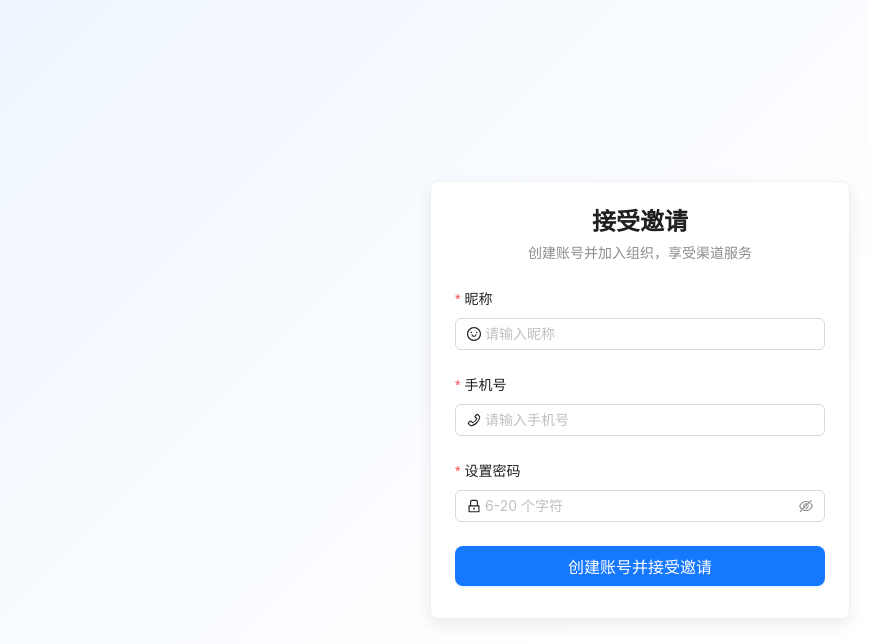
Scenario: InviteAcceptPage › shows toast error for non-401 business failures
In the field with placeholder "请输入昵称": (649, 334) [485, 323, 813, 345], type "受邀用户"
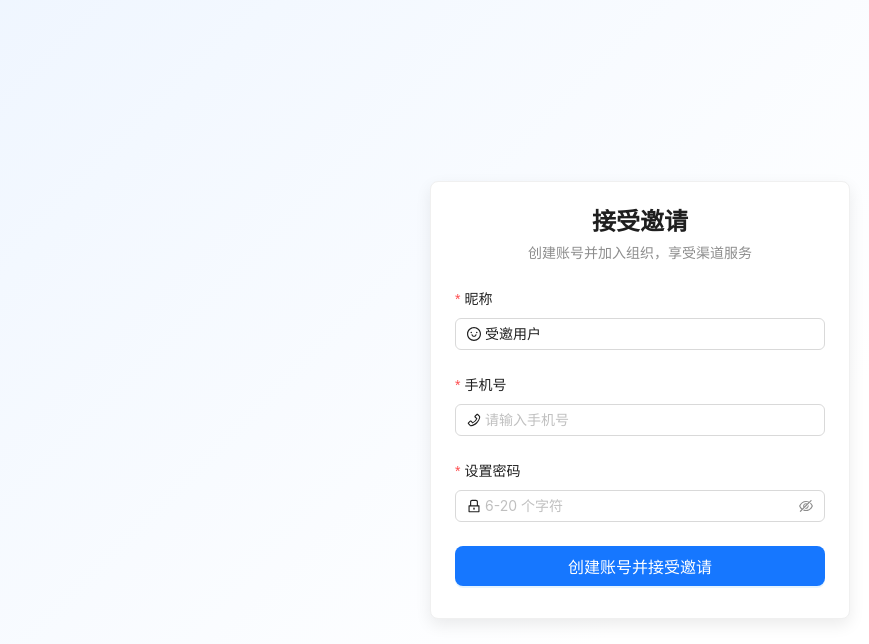
In the field with placeholder "请输入手机号": (649, 420) [485, 409, 813, 431], type "13800000005"
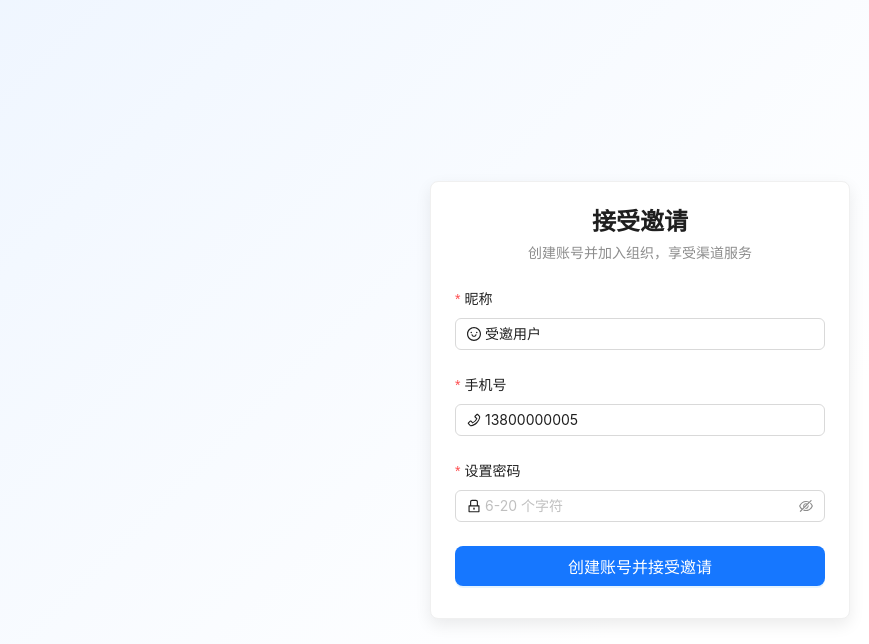
In the password field with placeholder "6-20 个字符": (640, 506) [485, 495, 795, 517], type "Test1234"
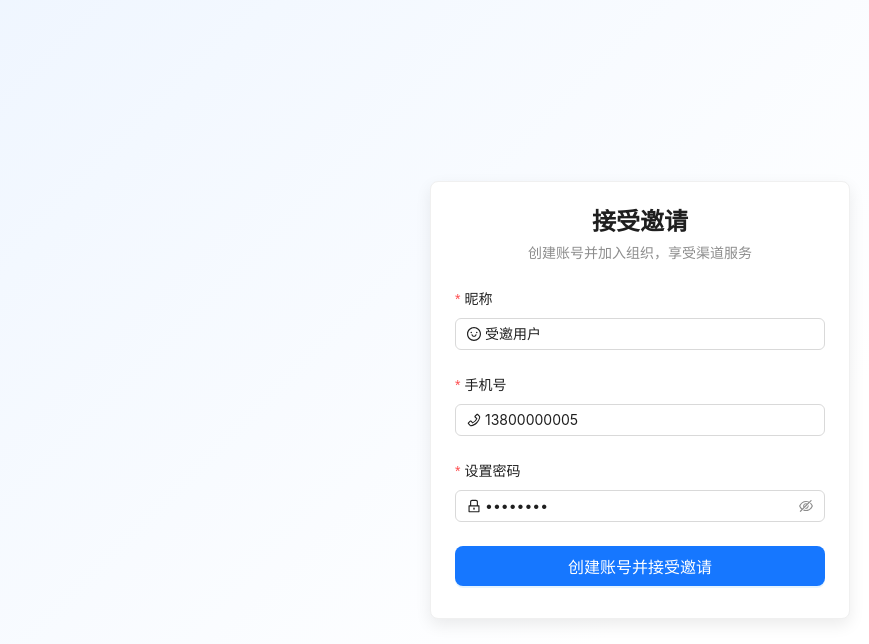
Click the button "创建账号并接受邀请": (640, 566) [455, 546, 825, 586]
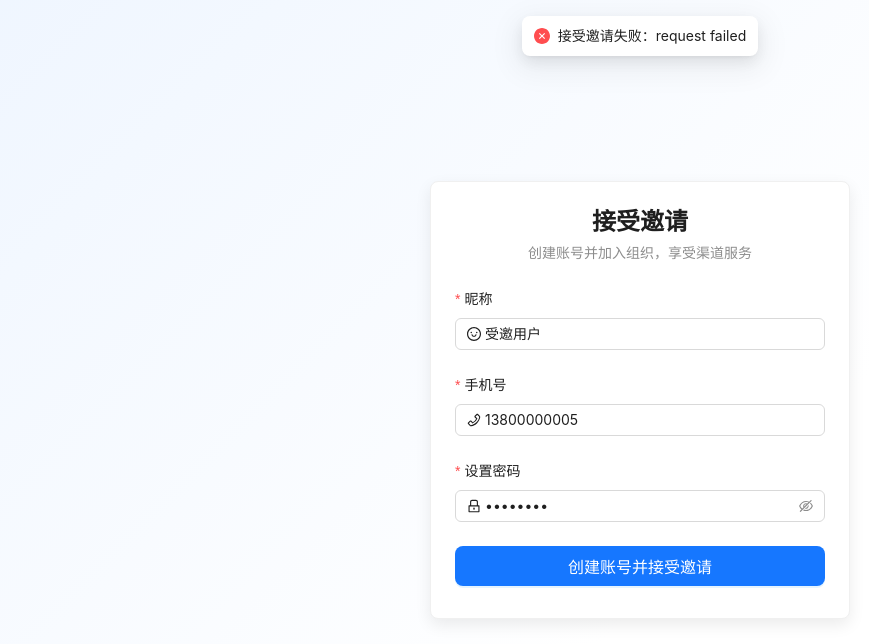
Expected: the element showing "接受邀请失败：request failed" is shown, [522, 16, 758, 56]
